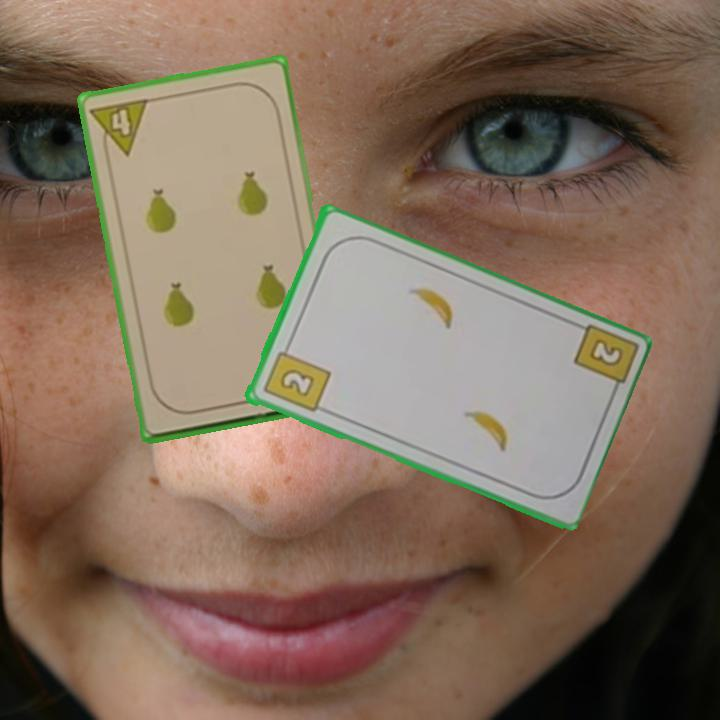2b: (259, 341, 332, 416), (585, 335, 626, 370)
4p: (87, 95, 151, 162)
